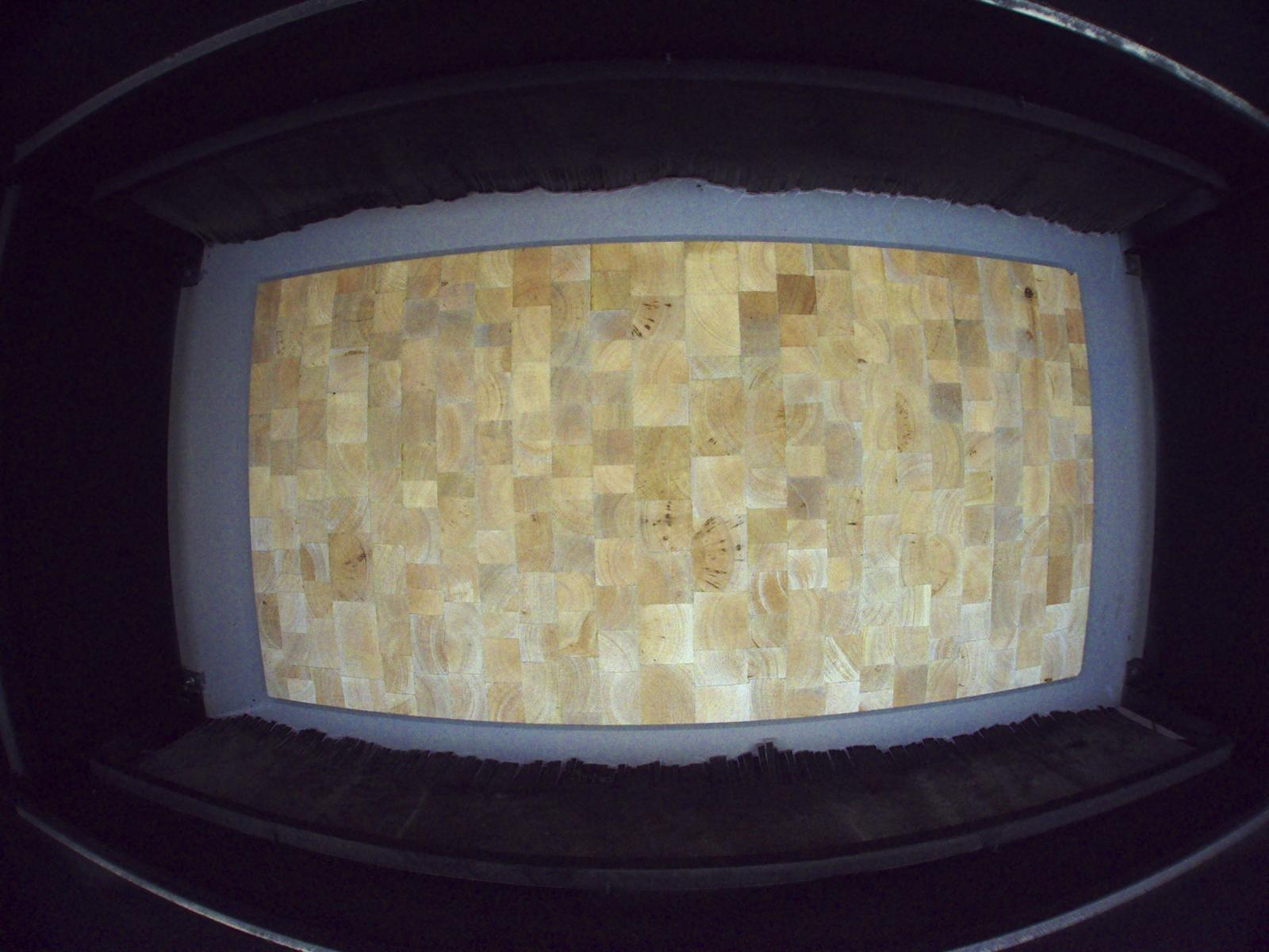nudillo: (1021, 285, 1040, 342)
sheck_ecuatoriano: (357, 536, 368, 580)
